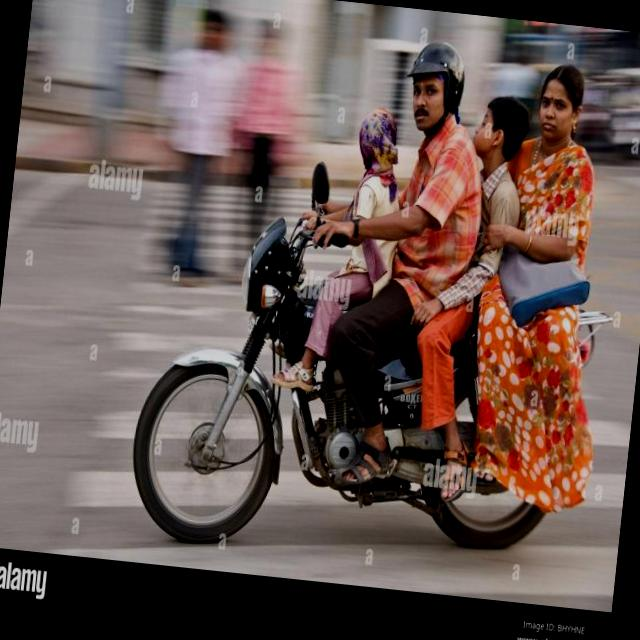motorcycle: (125, 185, 614, 589)
person: (472, 48, 614, 417), (359, 31, 494, 373), (270, 94, 414, 411), (437, 94, 536, 382)
rider_region: (122, 25, 616, 582)
